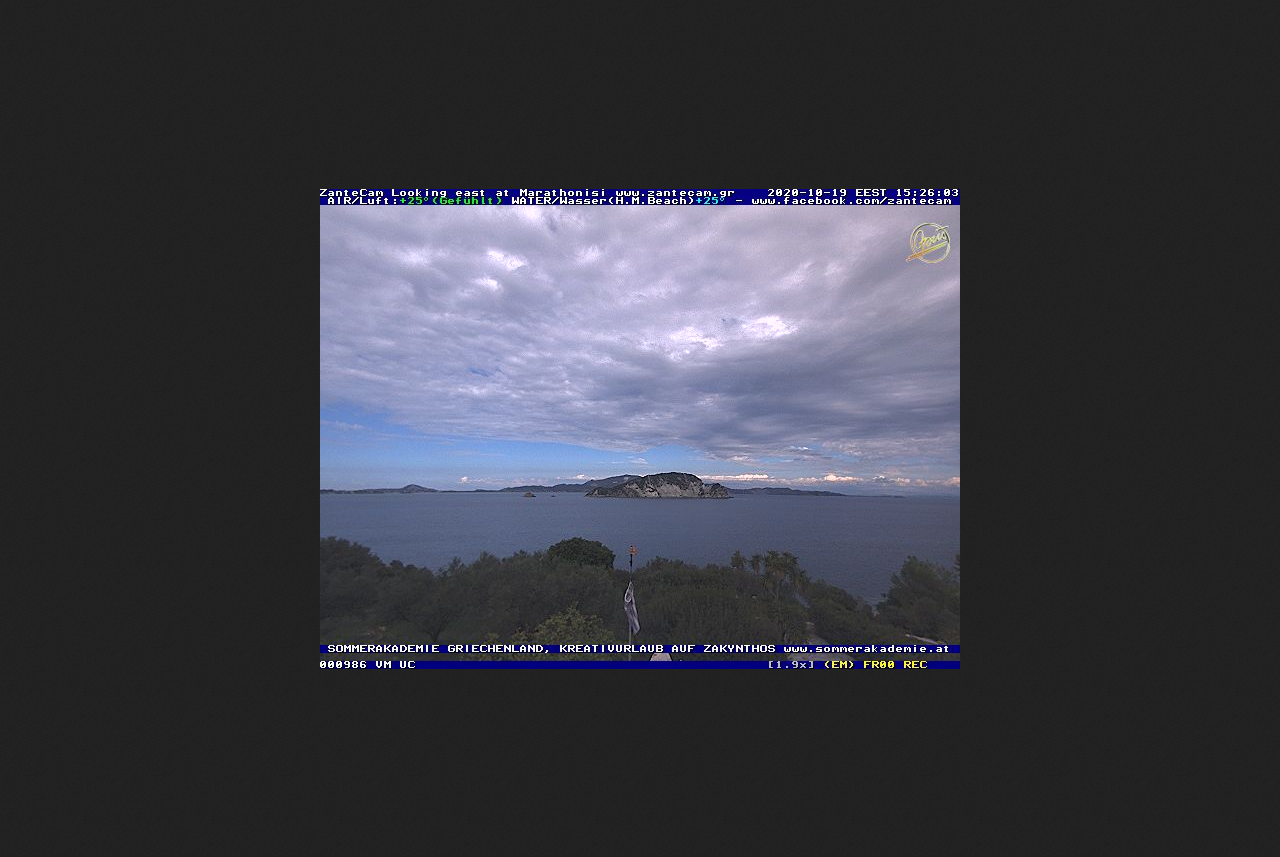no: (613, 569, 652, 637)
